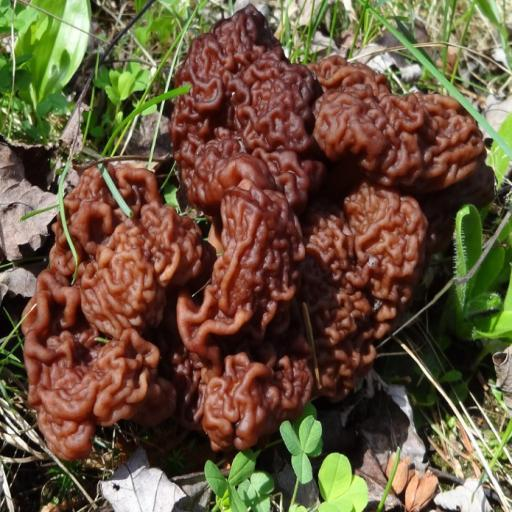mushroom: (175, 10, 488, 439), (20, 157, 175, 467)
